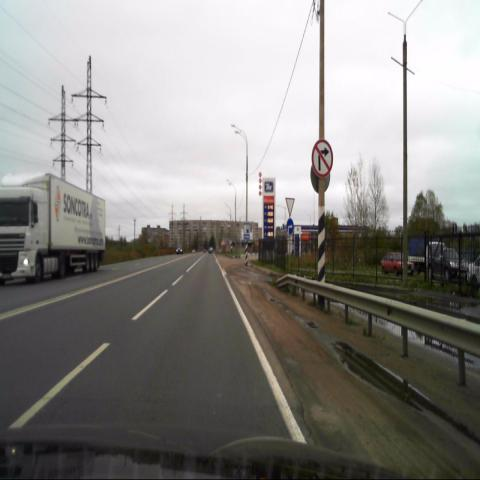3_18: (312, 140, 332, 177)
